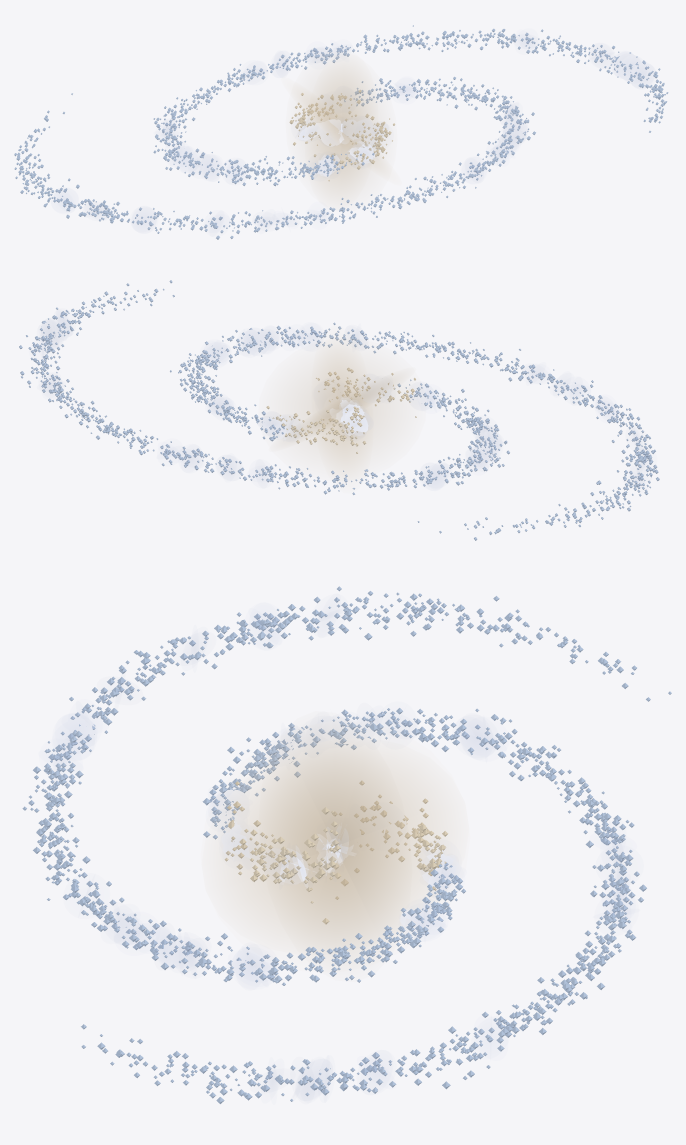
3 views of the same model, one above another, from view 1: azimuth 30°, elevation 25°; view 2: azimuth 150°, elevation 25°; view 3: azimuth 270°, elevation 25° (orthographic). The views are drawn at different scales.
Bounding box in the file's own units: 7.21 × 1.78 × 3.97.
